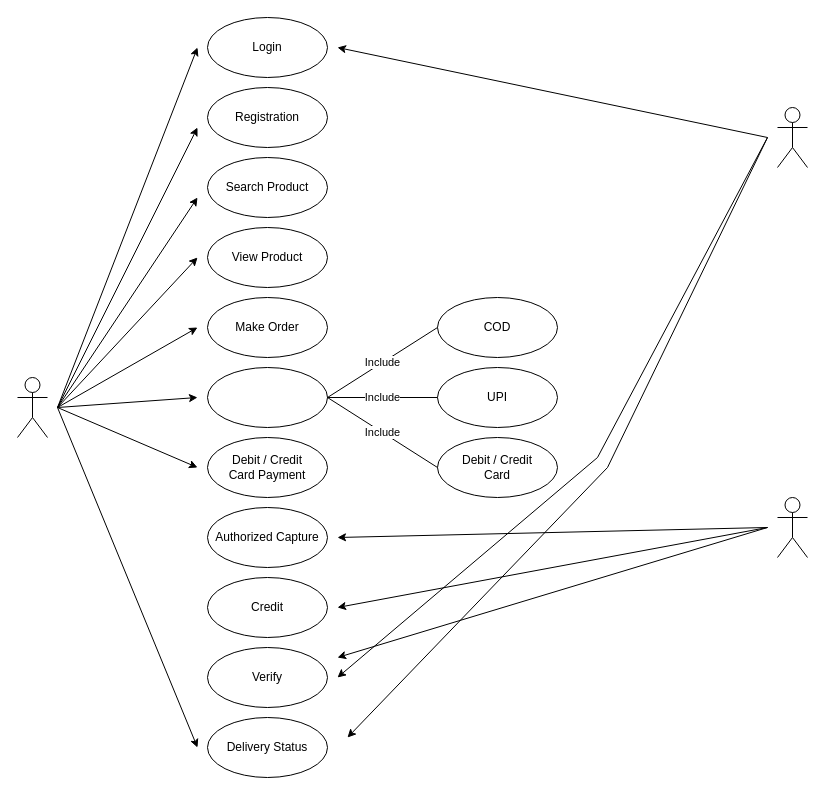
Some shapes in this 839 by 795 pixel diagram are drawn without their labels. Each missing label, with the centre of its shape:
"Admin" belongs at (x=792, y=137).
"Credit card Processing System" belongs at (x=792, y=527).
"Make Payment" belongs at (x=267, y=397).
"User" belongs at (x=32, y=407).
